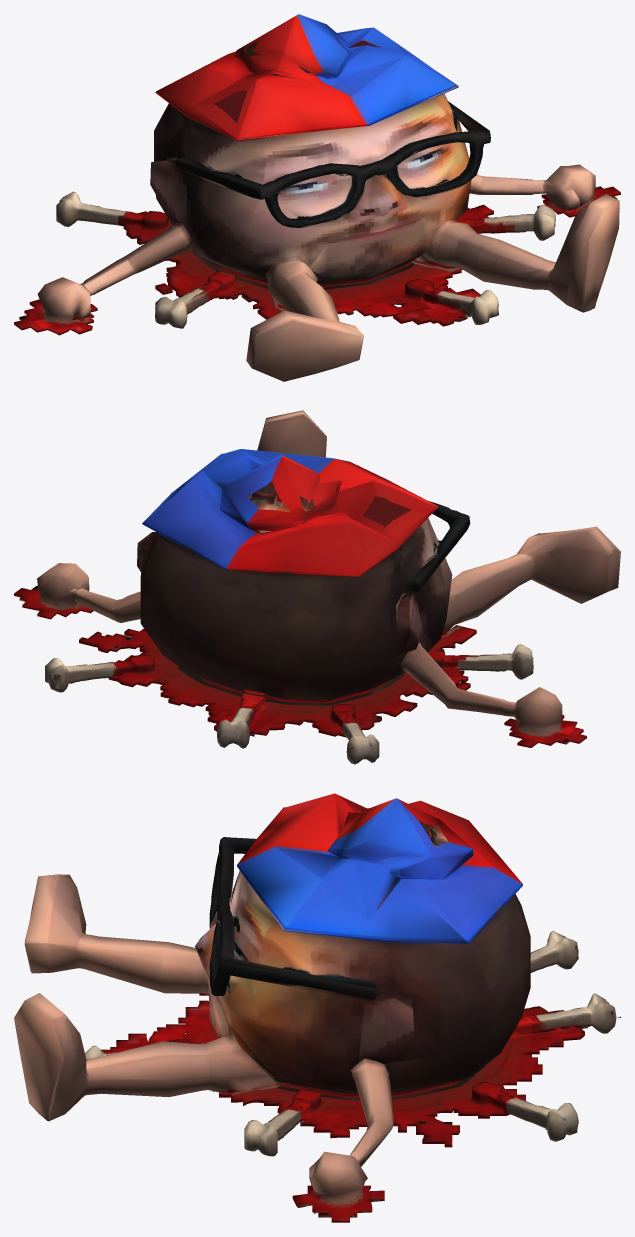
The model's file is Dakota gnome crushed.glb.
The picture shows the model from 3 angles, top to bottom: view 1: azimuth 30°, elevation 25°; view 2: azimuth 150°, elevation 25°; view 3: azimuth 270°, elevation 25°; orthographic projection. The views are drawn at different scales.
Parts seen in each view (by area): view 1: tripo_node_4067f3f5-e7d4-44c7-8a50-9a4eb302af25; view 2: tripo_node_4067f3f5-e7d4-44c7-8a50-9a4eb302af25; view 3: tripo_node_4067f3f5-e7d4-44c7-8a50-9a4eb302af25.
Part boxes in pixels (box(x1,y1,x2,y2)): tripo_node_4067f3f5-e7d4-44c7-8a50-9a4eb302af25: box(14, 14, 620, 381); tripo_node_4067f3f5-e7d4-44c7-8a50-9a4eb302af25: box(14, 410, 620, 764); tripo_node_4067f3f5-e7d4-44c7-8a50-9a4eb302af25: box(14, 793, 620, 1222).
Bounding box in the file's own units: 0.9837 × 0.3715 × 0.7758.
1 material, 1 textured.
